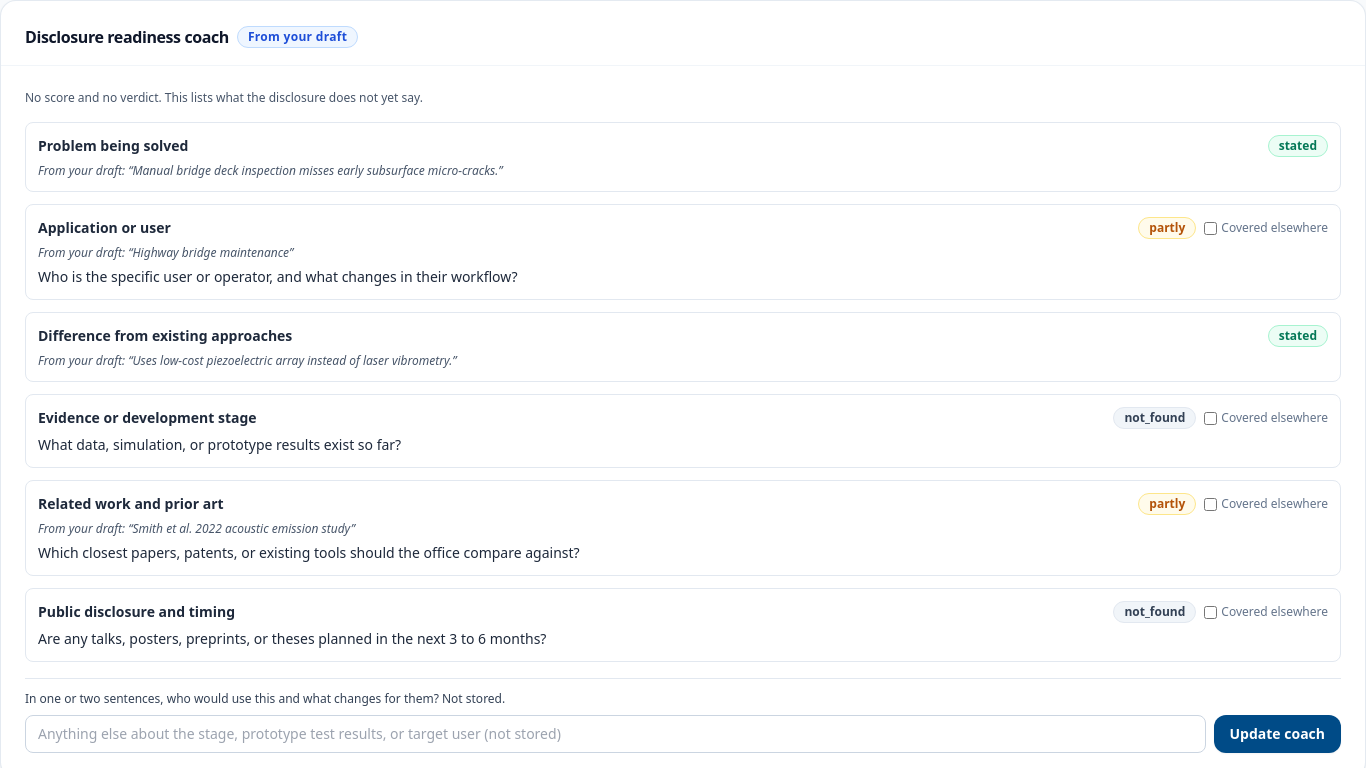
it: Refine (questions, checklist, buyout bridge) › renders ReadinessCoachCard with 6 dimensions, quotes, follow-ups, and re-queries getReadiness on extra text submit
Expected: the text "From your draft: “Manual bridge deck inspection misses early subsurface micro-cracks.”" is shown, x1=38 y1=162 x2=503 y2=179
Expected: the text "What data, simulation, or prototype results exist so far?" is shown, x1=38 y1=435 x2=401 y2=454
Replace the text in the field with test id "readiness-extra-input" with "Validated on 12 bridge deck cores in the structures lab.": x=615, y=734 x1=25 y1=715 x2=1206 y2=753
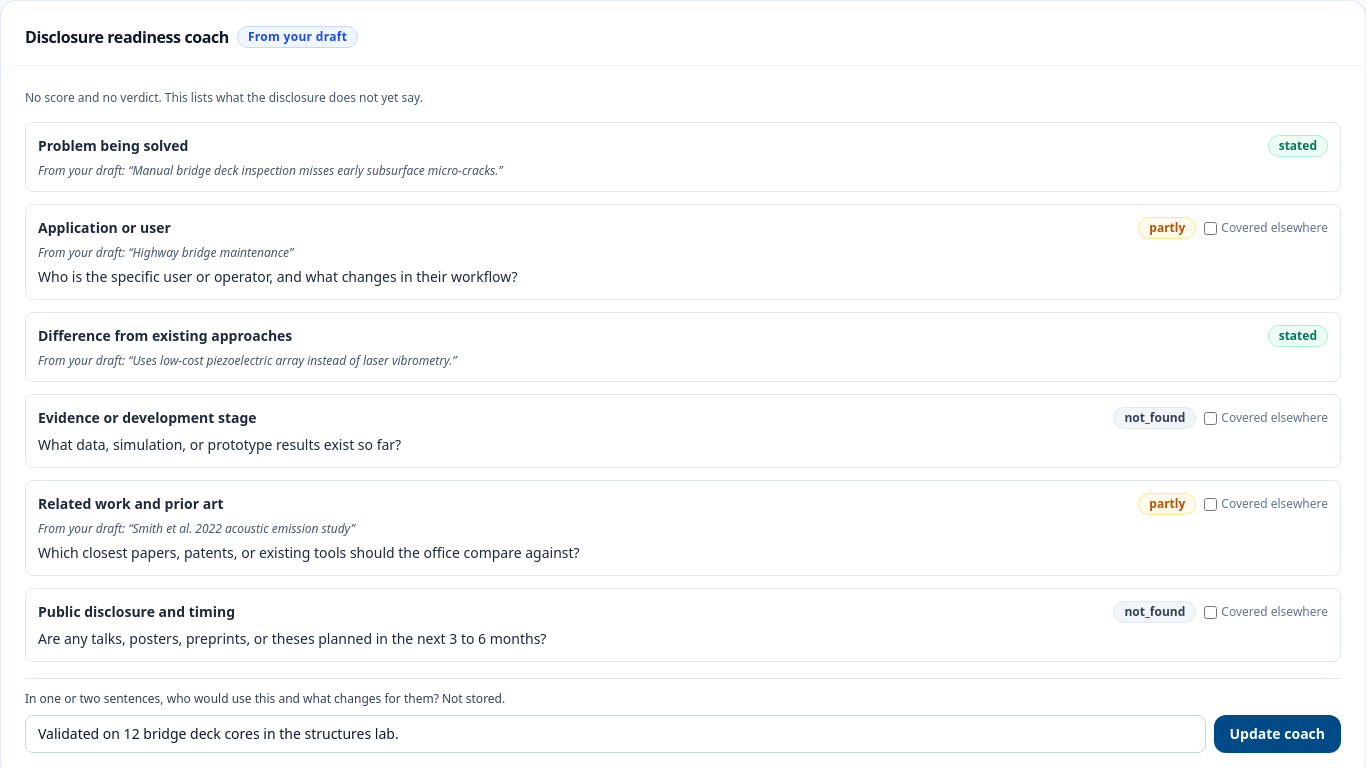
Click the button with test id "readiness-update-button": x=1277, y=734 x1=1214 y1=715 x2=1341 y2=753
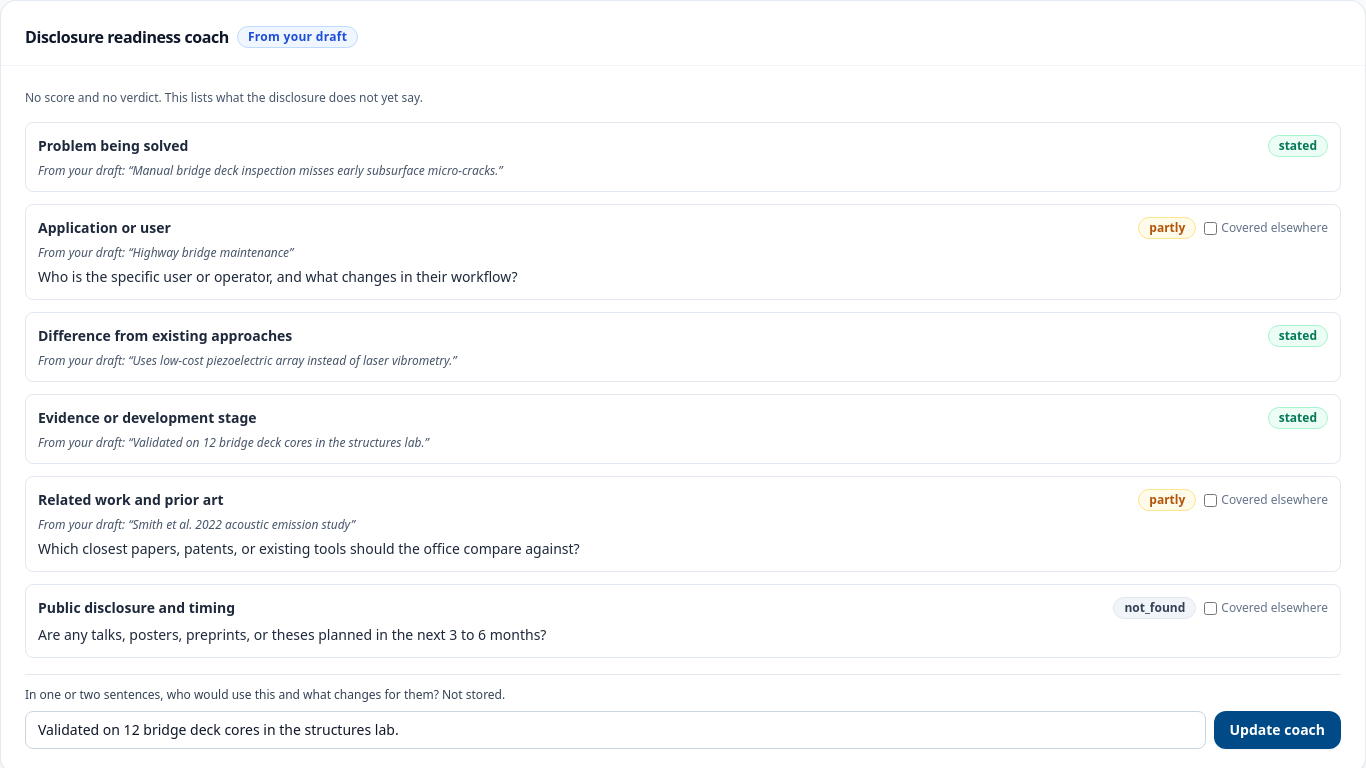
Expected: the text "Who is the specific user or operator, and what changes in their workflow?" is shown, x1=38 y1=267 x2=518 y2=286
Expected: the text with test id "readiness-status-evidence" reads "stated", x1=1279 y1=409 x2=1317 y2=426
Click the checkbox with test id "readiness-covered-application": x=1211, y=228 x1=1204 y1=222 x2=1217 y2=234
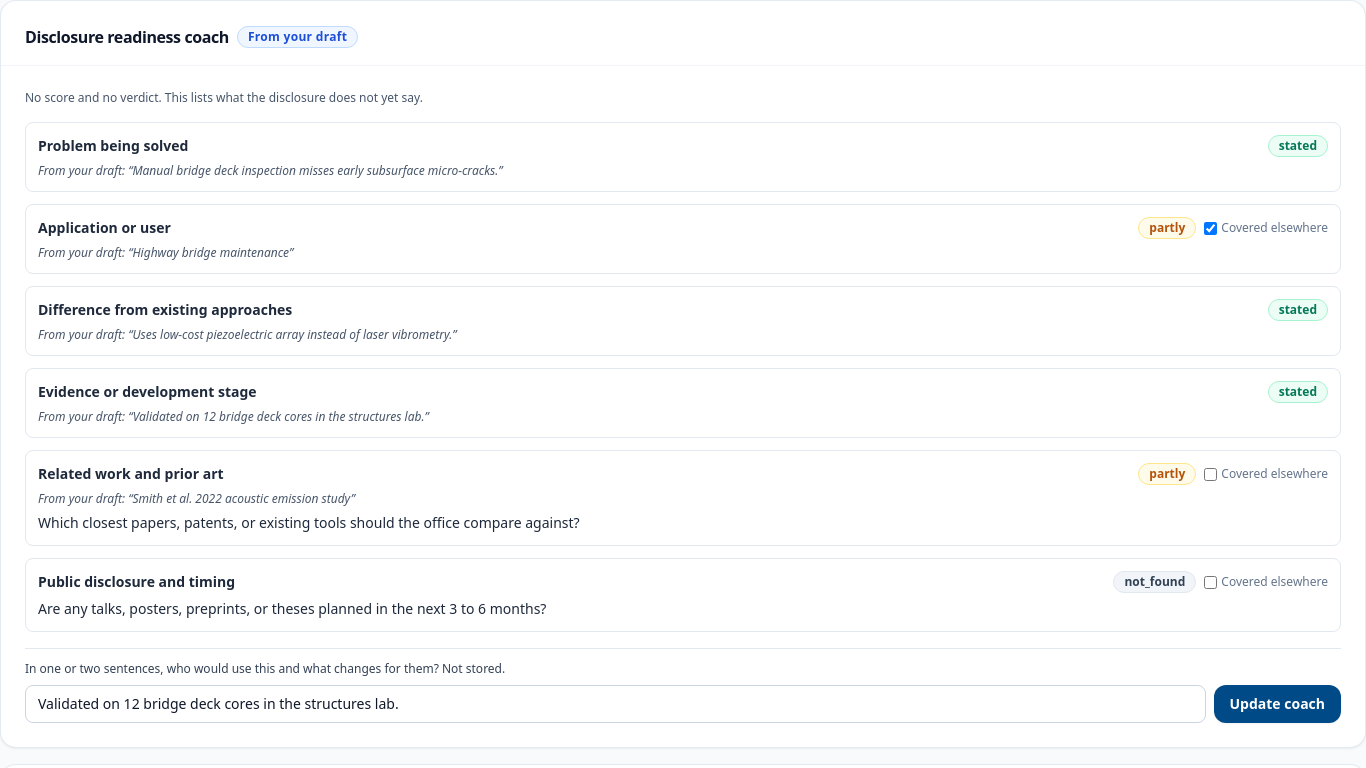
Expected: the text "Who is the specific user or operator, and what changes in their workflow?" is gone
